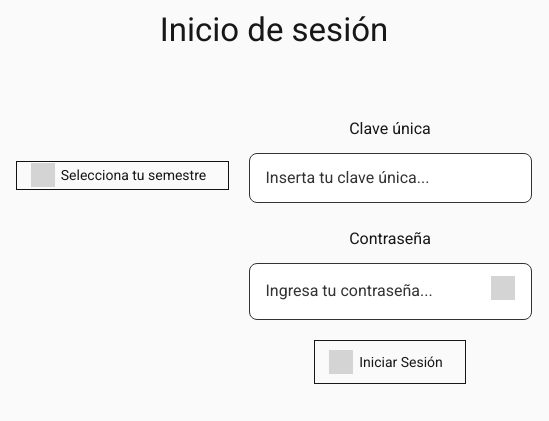
it: Página Login › muestra los errores si se envía vacío
Click the button "Iniciar Sesión": click(390, 362) [314,340,466,384]
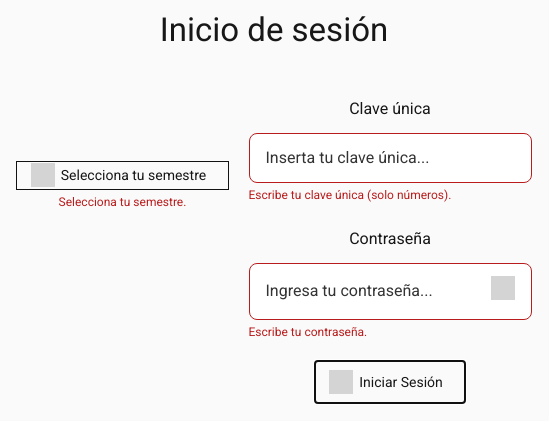
Check: the text "Selecciona tu semestre." is shown, box [59,194,186,210]
